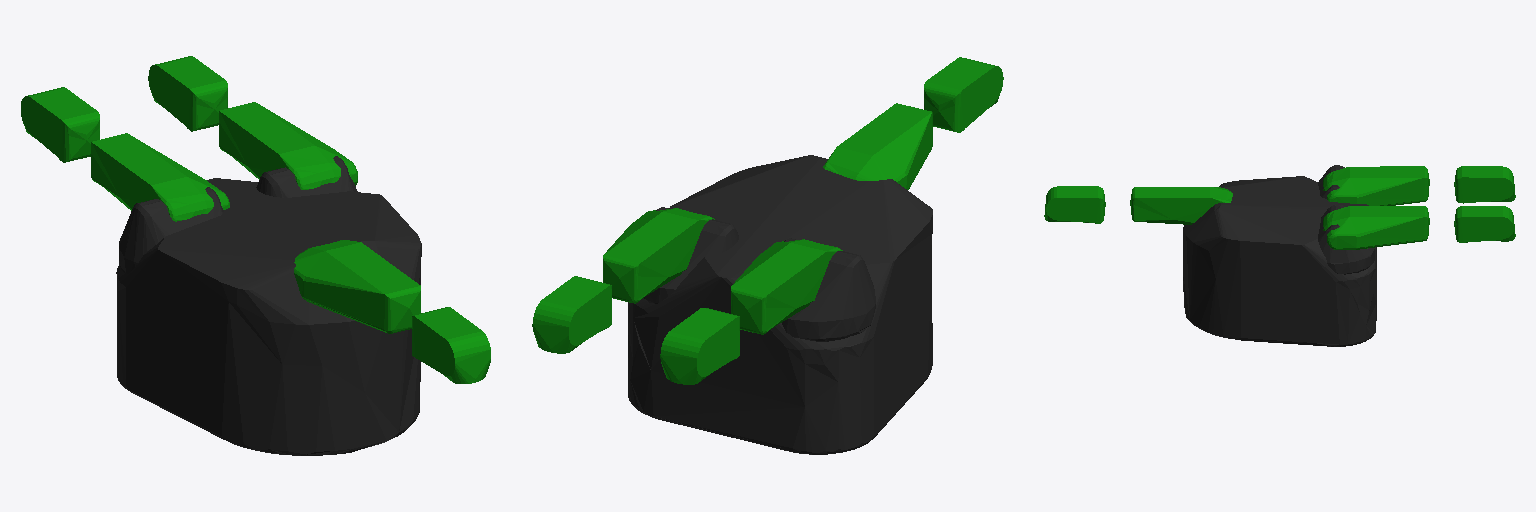
The robot description file, URDF, robot "irobot_hand_right":
<?xml version="1.0" ?>
<!-- =================================================================================== -->
<!-- |    This document was autogenerated by xacro from irobot_hand_drake_right.urdf.xacro | -->
<!-- |    EDITING THIS FILE BY HAND IS NOT RECOMMENDED                                 | -->
<!-- =================================================================================== -->
<robot name="irobot_hand_right" xmlns:controller="http://playerstage.sourceforge.net/gazebo/xmlschema/#controller" xmlns:interface="http://playerstage.sourceforge.net/gazebo/xmlschema/#interface" xmlns:sensor="http://playerstage.sourceforge.net/gazebo/xmlschema/#sensor" xmlns:xacro="http://www.ros.org/wiki/xacro">
  <!--  <include filename="$(find handle_description)/src/irobot_hand_simple.urdf.xacro" />-->
  <link name="base">
    <inertial>
      <mass value="0.1"/>
      <origin rpy="0 0 0" xyz="0 0 0.25"/>
      <inertia ixx="0.01" ixy="0" ixz="0" iyy="0.01" iyz="0" izz="0.01"/>
    </inertial>
  </link>
  <joint name="right_finger[0]/joint_flex" type="revolute">
    <parent link="right_finger[0]/proximal_link"/>
    <child link="right_finger[0]/distal_link"/>
    <origin xyz="0 0 0.078"/>
    <axis xyz="-1 0 0"/>
    <limit effort="1000.0" lower="0.0" upper="1.57" velocity="0.5"/>
  </joint>
  <joint name="right_finger[1]/joint_flex" type="revolute">
    <parent link="right_finger[1]/proximal_link"/>
    <child link="right_finger[1]/distal_link"/>
    <origin xyz="0 0 0.078"/>
    <axis xyz="-1 0 0"/>
    <limit effort="1000.0" lower="0.0" upper="1.57" velocity="0.5"/>
  </joint>
  <joint name="right_finger[2]/joint_flex" type="revolute">
    <parent link="right_finger[2]/proximal_link"/>
    <child link="right_finger[2]/distal_link"/>
    <origin xyz="0 0 0.078"/>
    <axis xyz="-1 0 0"/>
    <limit effort="1000.0" lower="0.0" upper="1.57" velocity="0.5"/>
  </joint>
  <joint name="right_irobot_hand_joint" type="fixed">
    <origin rpy="0 0 0" xyz="0 -0.05 0"/>
    <parent link="base"/>
    <child link="right_base_link"/>
  </joint>
  <link name="right_base_link">
    <inertial>
      <mass value="0.1"/>
      <origin xyz="0 0 0"/>
      <inertia ixx="0.001" ixy="0.0" ixz="0.0" iyy="0.001" iyz="0.0" izz="0.001"/>
    </inertial>
    <!--    <collision>-->
    <!--      <geometry>-->
    <!--        <mesh filename="package://handle_description/meshes/palm.stl"/>-->
    <!--      </geometry>-->
    <!--      <origin rpy="0 0 0" xyz="0 -0.038 -0.023"/>-->
    <!--    </collision>-->
    <collision>
      <origin rpy="0 0 0" xyz="0.0 0.012 0.083"/>
      <geometry>
        <sphere radius="0"/>
      </geometry>
    </collision>
    <collision>
      <origin rpy="0 0 0" xyz="0.0 -0.005 0.083"/>
      <geometry>
        <sphere radius="0"/>
      </geometry>
    </collision>
    <visual>
      <geometry>
        <mesh filename="package://handle_description/meshes/palm.stl"/>
      </geometry>
      <material name="darkgray">
        <color rgba="0.2 0.2 0.2 1"/>
      </material>
      <origin rpy="0 0 0" xyz="0 -0.038 -0.023"/>
    </visual>
  </link>
  <link name="right_finger[0]/base_rotation_link">
    <inertial>
      <mass value="0.1"/>
      <origin xyz="0 0 0"/>
      <inertia ixx="0.001" ixy="0.0" ixz="0.0" iyy="0.001" iyz="0.0" izz="0.001"/>
    </inertial>
    <!--    <collision>-->
    <!--      <geometry>-->
    <!--        <mesh filename="package://handle_description/meshes/finger_base.stl"/>-->
    <!--      </geometry>-->
    <!--      <origin rpy="${pi/2} 0 0" xyz="0 0 0"/>-->
    <!--    </collision>-->
    <visual>
      <geometry>
        <mesh filename="package://handle_description/meshes/finger_base.stl"/>
      </geometry>
      <material name="darkgray">
        <color rgba="0.2 0.2 0.2 1"/>
      </material>
      <origin rpy="1.57 0 0" xyz="0 0 0"/>
    </visual>
  </link>
  <link name="right_finger[0]/proximal_link">
    <inertial>
      <mass value="0.1"/>
      <origin xyz="0 0 0"/>
      <inertia ixx="0.001" ixy="0.0" ixz="0.0" iyy="0.001" iyz="0.0" izz="0.001"/>
    </inertial>
    <!--    <collision>-->
    <!--      <geometry>-->
    <!--        <mesh filename="package://handle_description/meshes/finger_proximal.stl"/>-->
    <!--      </geometry>-->
    <!--      <origin rpy="${pi/2} -${pi/2} 0" xyz="0 0 0"/>-->
    <!--    </collision>-->
    <collision>
      <origin rpy="0 0 0" xyz="0.0 0.01 0.034"/>
      <geometry>
        <sphere radius="0"/>
      </geometry>
    </collision>
    <collision>
      <origin rpy="0 0 0" xyz="0.0 0.01 0.051"/>
      <geometry>
        <sphere radius="0"/>
      </geometry>
    </collision>
    <visual>
      <geometry>
        <mesh filename="package://handle_description/meshes/finger_proximal.stl"/>
      </geometry>
      <material name="green">
        <color rgba="0.1 0.6 0.1 1"/>
      </material>
      <origin rpy="1.57 -1.57 0" xyz="0 0 0"/>
    </visual>
  </link>
  <link name="right_finger[0]/distal_link">
    <inertial>
      <mass value="0.1"/>
      <origin xyz="0 0 0"/>
      <inertia ixx="0.001" ixy="0.0" ixz="0.0" iyy="0.001" iyz="0.0" izz="0.001"/>
    </inertial>
    <!--    <collision>-->
    <!--      <geometry>-->
    <!--        <mesh filename="package://handle_description/meshes/finger_distal.stl"/>-->
    <!--      </geometry>-->
    <!--      <origin rpy="0 ${pi} 0" xyz="0 0 0"/>-->
    <!--    </collision>-->
    <collision>
      <origin rpy="0 0 0" xyz="0.0 0.01 0.02"/>
      <geometry>
        <sphere radius="0"/>
      </geometry>
    </collision>
    <visual>
      <geometry>
        <mesh filename="package://handle_description/meshes/finger_distal.stl"/>
      </geometry>
      <material name="green">
        <color rgba="0.1 0.6 0.1 1"/>
      </material>
      <origin rpy="0 3.14 0" xyz="0 0 0"/>
    </visual>
  </link>
  <link name="right_finger[1]/base_rotation_link">
    <inertial>
      <mass value="0.1"/>
      <origin xyz="0 0 0"/>
      <inertia ixx="0.001" ixy="0.0" ixz="0.0" iyy="0.001" iyz="0.0" izz="0.001"/>
    </inertial>
    <!--    <collision>-->
    <!--      <geometry>-->
    <!--        <mesh filename="package://handle_description/meshes/finger_base.stl"/>-->
    <!--      </geometry>-->
    <!--      <origin rpy="${pi/2} 0 0" xyz="0 0 0"/>-->
    <!--    </collision>-->
    <visual>
      <geometry>
        <mesh filename="package://handle_description/meshes/finger_base.stl"/>
      </geometry>
      <material name="darkgray">
        <color rgba="0.2 0.2 0.2 1"/>
      </material>
      <origin rpy="1.57 0 0" xyz="0 0 0"/>
    </visual>
  </link>
  <link name="right_finger[1]/proximal_link">
    <inertial>
      <mass value="0.1"/>
      <origin xyz="0 0 0"/>
      <inertia ixx="0.001" ixy="0.0" ixz="0.0" iyy="0.001" iyz="0.0" izz="0.001"/>
    </inertial>
    <!--    <collision>-->
    <!--      <geometry>-->
    <!--        <mesh filename="package://handle_description/meshes/finger_proximal.stl"/>-->
    <!--      </geometry>-->
    <!--      <origin rpy="${pi/2} -${pi/2} 0" xyz="0 0 0"/>-->
    <!--    </collision>-->
    <collision>
      <origin rpy="0 0 0" xyz="0.0 0.01 0.034"/>
      <geometry>
        <sphere radius="0"/>
      </geometry>
    </collision>
    <collision>
      <origin rpy="0 0 0" xyz="0.0 0.01 0.051"/>
      <geometry>
        <sphere radius="0"/>
      </geometry>
    </collision>
    <visual>
      <geometry>
        <mesh filename="package://handle_description/meshes/finger_proximal.stl"/>
      </geometry>
      <material name="green">
        <color rgba="0.1 0.6 0.1 1"/>
      </material>
      <origin rpy="1.57 -1.57 0" xyz="0 0 0"/>
    </visual>
  </link>
  <link name="right_finger[1]/distal_link">
    <inertial>
      <mass value="0.1"/>
      <origin xyz="0 0 0"/>
      <inertia ixx="0.001" ixy="0.0" ixz="0.0" iyy="0.001" iyz="0.0" izz="0.001"/>
    </inertial>
    <!--    <collision>-->
    <!--      <geometry>-->
    <!--        <mesh filename="package://handle_description/meshes/finger_distal.stl"/>-->
    <!--      </geometry>-->
    <!--      <origin rpy="0 ${pi} 0" xyz="0 0 0"/>-->
    <!--    </collision>-->
    <collision>
      <origin rpy="0 0 0" xyz="0.0 0.01 0.02"/>
      <geometry>
        <sphere radius="0"/>
      </geometry>
    </collision>
    <visual>
      <geometry>
        <mesh filename="package://handle_description/meshes/finger_distal.stl"/>
      </geometry>
      <material name="green">
        <color rgba="0.1 0.6 0.1 1"/>
      </material>
      <origin rpy="0 3.14 0" xyz="0 0 0"/>
    </visual>
  </link>
  <link name="right_finger[2]/proximal_link">
    <inertial>
      <mass value="0.1"/>
      <origin xyz="0 0 0"/>
      <inertia ixx="0.001" ixy="0.0" ixz="0.0" iyy="0.001" iyz="0.0" izz="0.001"/>
    </inertial>
    <!--    <collision>-->
    <!--      <geometry>-->
    <!--        <mesh filename="package://handle_description/meshes/finger_proximal.stl"/>-->
    <!--      </geometry>-->
    <!--      <origin rpy="${pi/2} -${pi/2} 0" xyz="0 0 0"/>-->
    <!--    </collision>-->
    <collision>
      <origin rpy="0 0 0" xyz="0.0 0.01 0.034"/>
      <geometry>
        <sphere radius="0"/>
      </geometry>
    </collision>
    <collision>
      <origin rpy="0 0 0" xyz="0.0 0.01 0.051"/>
      <geometry>
        <sphere radius="0"/>
      </geometry>
    </collision>
    <visual>
      <geometry>
        <mesh filename="package://handle_description/meshes/finger_proximal.stl"/>
      </geometry>
      <material name="green">
        <color rgba="0.1 0.6 0.1 1"/>
      </material>
      <origin rpy="1.57 -1.57 0" xyz="0 0 0"/>
    </visual>
  </link>
  <link name="right_finger[2]/distal_link">
    <inertial>
      <mass value="0.1"/>
      <origin xyz="0 0 0"/>
      <inertia ixx="0.001" ixy="0.0" ixz="0.0" iyy="0.001" iyz="0.0" izz="0.001"/>
    </inertial>
    <!--    <collision>-->
    <!--      <geometry>-->
    <!--        <mesh filename="package://handle_description/meshes/finger_distal.stl"/>-->
    <!--      </geometry>-->
    <!--      <origin rpy="0 ${pi} 0" xyz="0 0 0"/>-->
    <!--    </collision>-->
    <collision>
      <origin rpy="0 0 0" xyz="0.0 0.01 0.02"/>
      <geometry>
        <sphere radius="0"/>
      </geometry>
    </collision>
    <visual>
      <geometry>
        <mesh filename="package://handle_description/meshes/finger_distal.stl"/>
      </geometry>
      <material name="green">
        <color rgba="0.1 0.6 0.1 1"/>
      </material>
      <origin rpy="0 3.14 0" xyz="0 0 0"/>
    </visual>
  </link>
  <joint name="right_finger[0]/joint_base_rotation" type="revolute">
    <parent link="right_base_link"/>
    <child link="right_finger[0]/base_rotation_link"/>
    <origin rpy="0 0 0" xyz="0.03075 0.038 0.069477"/>
    <axis xyz="0 0 -1"/>
    <limit effort="1000.0" lower="0.0" upper="1.57" velocity="0.5"/>
  </joint>
  <joint name="right_finger[0]/joint_base" type="revolute">
    <parent link="right_finger[0]/base_rotation_link"/>
    <child link="right_finger[0]/proximal_link"/>
    <origin rpy="1.57 0 -3.14" xyz="0 0 0.0135"/>
    <axis xyz="-1 0 0"/>
    <limit effort="1000.0" lower="0.0" upper="1.57" velocity="0.5"/>
  </joint>
  <joint name="right_finger[1]/joint_base_rotation" type="revolute">
    <parent link="right_base_link"/>
    <child link="right_finger[1]/base_rotation_link"/>
    <origin rpy="0 0 0" xyz="-0.03075 0.038 0.069477"/>
    <axis xyz="0 0 1"/>
    <limit effort="1000.0" lower="0.0" upper="1.57" velocity="0.5"/>
  </joint>
  <joint name="right_finger[1]/joint_base" type="revolute">
    <parent link="right_finger[1]/base_rotation_link"/>
    <child link="right_finger[1]/proximal_link"/>
    <origin rpy="1.57 0 -3.14" xyz="0 0 0.0135"/>
    <axis xyz="-1 0 0"/>
    <limit effort="1000.0" lower="0.0" upper="1.57" velocity="0.5"/>
  </joint>
  <joint name="right_finger[2]/joint_base" type="revolute">
    <parent link="right_base_link"/>
    <child link="right_finger[2]/proximal_link"/>
    <origin rpy="1.57 0 0" xyz="0 -0.038 0.082755"/>
    <axis xyz="-1 0 0"/>
    <limit effort="1000.0" lower="0.0" upper="1.57" velocity="0.5"/>
  </joint>
</robot>

--- Facts derived from the render (not from the file) ---
Views: 3 orthographic renders of the robot side by side, from view 1: azimuth 30°, elevation 25°; view 2: azimuth 150°, elevation 25°; view 3: azimuth 270°, elevation 25°.
Robot: irobot_hand_right — 10 links, 9 joints (8 revolute, 1 fixed); root link base; default pose: every joint at zero.
Links seen in each view (by area): view 1: right_base_link, right_finger[2]/proximal_link, right_finger[0]/proximal_link, right_finger[1]/proximal_link, right_finger[2]/distal_link, right_finger[0]/distal_link, right_finger[1]/distal_link, right_finger[1]/base_rotation_link, right_finger[0]/base_rotation_link; view 2: right_base_link, right_finger[0]/proximal_link, right_finger[1]/proximal_link, right_finger[2]/proximal_link, right_finger[1]/base_rotation_link, right_finger[1]/distal_link, right_finger[0]/distal_link, right_finger[2]/distal_link, right_finger[0]/base_rotation_link; view 3: right_base_link, right_finger[0]/proximal_link, right_finger[1]/proximal_link, right_finger[2]/proximal_link, right_finger[2]/distal_link, right_finger[1]/distal_link, right_finger[0]/distal_link, right_finger[0]/base_rotation_link.
Boxes of the visible links, <box> form: right_base_link: <box>116,178,421,455</box>; right_finger[2]/proximal_link: <box>294,240,420,333</box>; right_finger[0]/proximal_link: <box>219,102,357,189</box>; right_finger[1]/proximal_link: <box>91,133,229,221</box>; right_finger[2]/distal_link: <box>412,307,490,383</box>; right_finger[0]/distal_link: <box>148,56,227,131</box>; right_finger[1]/distal_link: <box>21,87,99,162</box>; right_finger[1]/base_rotation_link: <box>119,187,223,273</box>; right_finger[0]/base_rotation_link: <box>256,156,357,197</box>; right_base_link: <box>628,155,932,454</box>; right_finger[0]/proximal_link: <box>603,208,714,303</box>; right_finger[1]/proximal_link: <box>731,239,842,334</box>; right_finger[2]/proximal_link: <box>823,103,932,189</box>; right_finger[1]/base_rotation_link: <box>782,238,875,341</box>; right_finger[1]/distal_link: <box>660,308,739,384</box>; right_finger[0]/distal_link: <box>532,276,611,353</box>; right_finger[2]/distal_link: <box>924,57,1003,132</box>; right_finger[0]/base_rotation_link: <box>643,207,738,303</box>; right_base_link: <box>1183,176,1376,346</box>; right_finger[0]/proximal_link: <box>1323,206,1429,249</box>; right_finger[1]/proximal_link: <box>1323,166,1429,205</box>; right_finger[2]/proximal_link: <box>1130,187,1232,224</box>; right_finger[2]/distal_link: <box>1044,186,1105,223</box>; right_finger[1]/distal_link: <box>1454,166,1515,203</box>; right_finger[0]/distal_link: <box>1454,206,1515,242</box>; right_finger[0]/base_rotation_link: <box>1318,204,1374,274</box>.
Bounding box of the posed robot: 0.1134 × 0.311 × 0.0878 m (x, y, z).
Meshes: 4 distinct files referenced, 9 mesh visuals loaded (4 binary STL).
